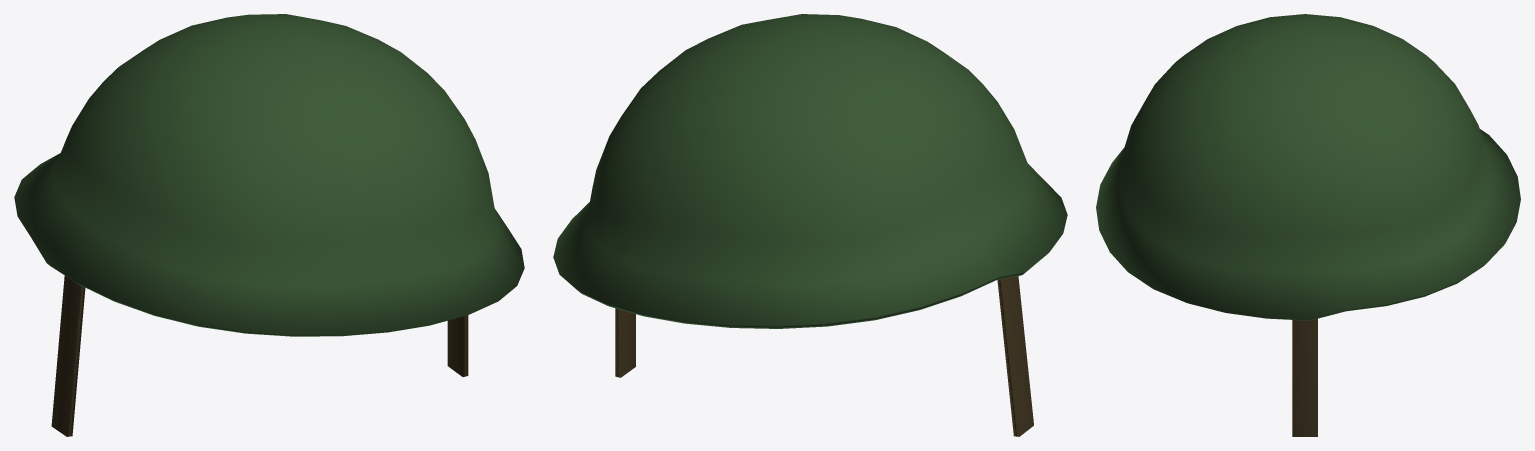
The model's file is helmet.glb.
3 views of the same model, side by side, from view 1: azimuth 30°, elevation 25°; view 2: azimuth 150°, elevation 25°; view 3: azimuth 270°, elevation 25° (orthographic). The views are drawn at different scales.
Visible parts, largest first — view 1: Helmet, Left Strap, Right Strap; view 2: Helmet, Left Strap, Right Strap; view 3: Helmet, Right Strap.
Boxes of the visible parts, left/top/right/bottom form: Helmet: left=14, top=14, right=524, bottom=336; Left Strap: left=51, top=275, right=85, bottom=436; Right Strap: left=447, top=315, right=468, bottom=376; Helmet: left=553, top=14, right=1067, bottom=328; Left Strap: left=997, top=276, right=1033, bottom=436; Right Strap: left=615, top=308, right=635, bottom=377; Helmet: left=1096, top=14, right=1520, bottom=320; Right Strap: left=1292, top=318, right=1317, bottom=436.
Size of the model in its own units: 0.6077 by 0.5034 by 0.6015.
